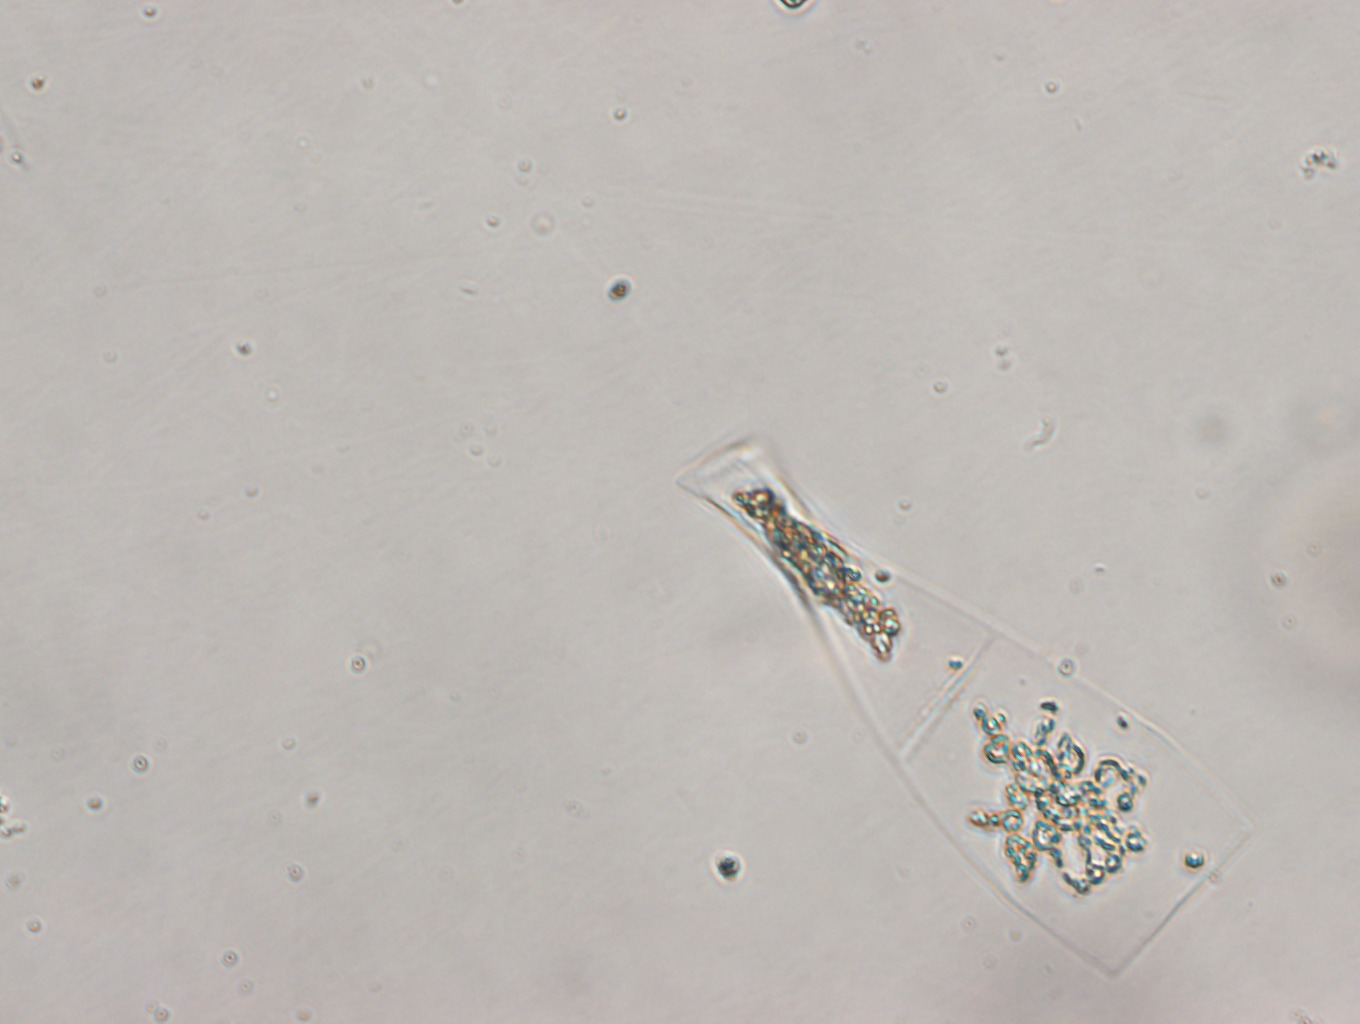helicotheca: (665, 419, 1261, 983)
